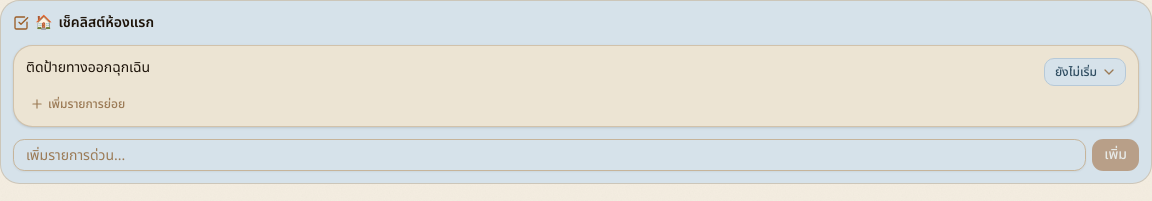
Test: RoomChecklistBox busy scoping › leaves the quick-add form usable while a status is being written
This screenshot has width=1152, height=201.
Click the dropdown named "สถานะของ ติดป้ายทางออกฉุกเฉิน" at {"x": 1085, "y": 72}, box [1044,58,1126,86]
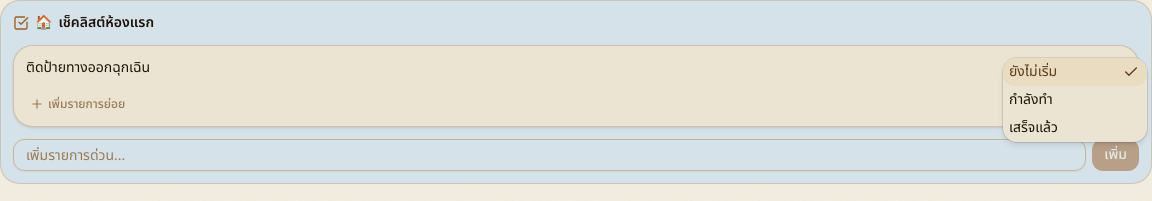
Click the option "กำลังทำ" at {"x": 1031, "y": 100}, box [1009,89,1053,110]
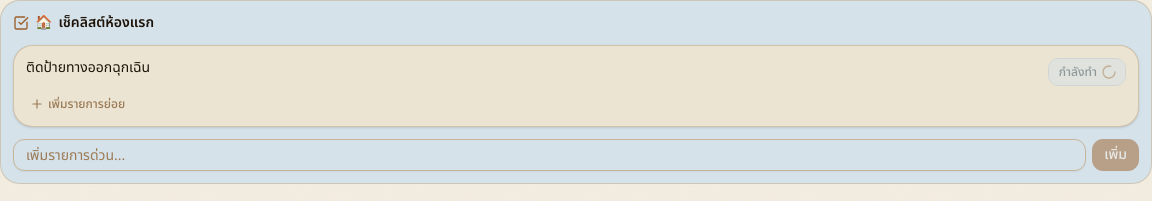
Expected: the field with placeholder "เพิ่มรายการด่วน..." is enabled, [13,139,1086,171]
Expected: the dropdown named "สถานะของ ติดป้ายทางออกฉุกเฉิน" is disabled, [1048,58,1126,86]
